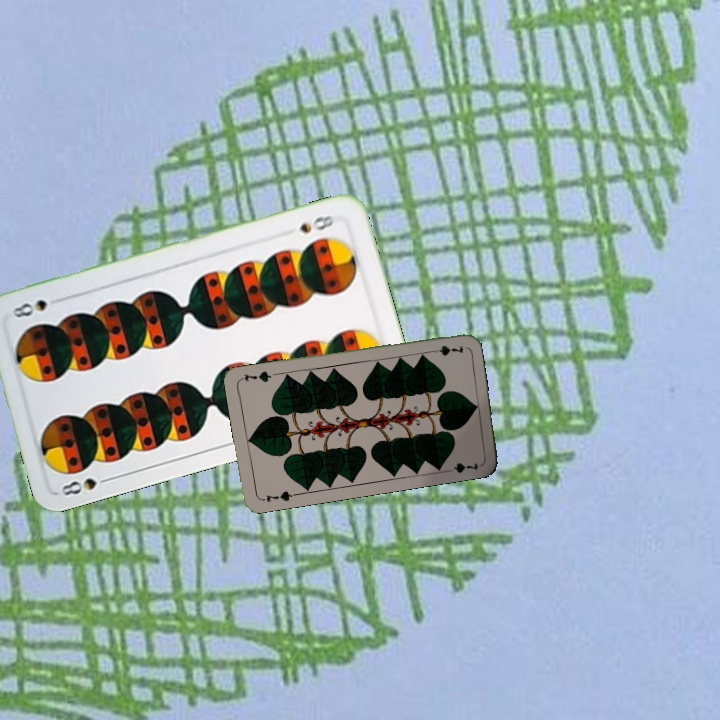G7: (257, 487, 298, 504), (425, 341, 466, 357)
S8: (57, 473, 115, 499), (295, 211, 336, 236)
